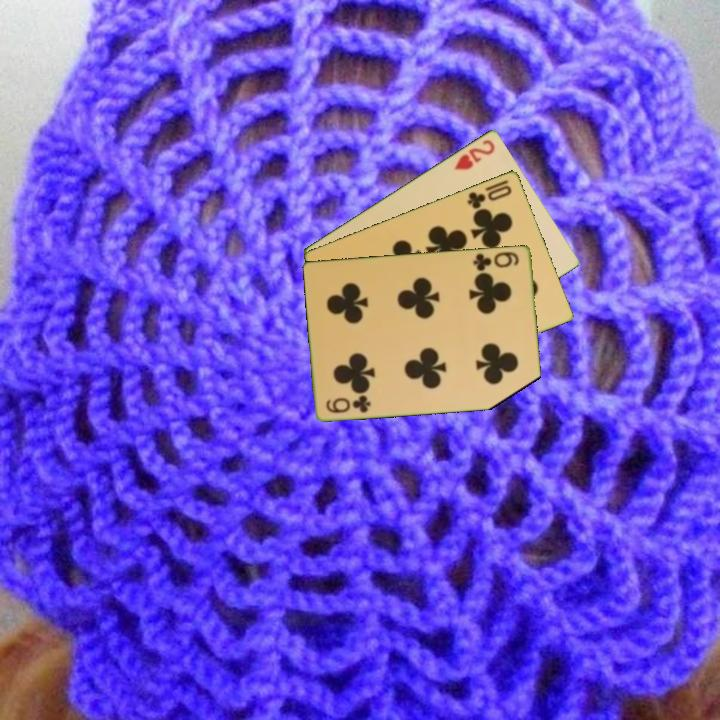10c: (464, 181, 515, 212)
2h: (450, 135, 498, 172)
6c: (470, 248, 522, 273), (323, 392, 374, 416)
